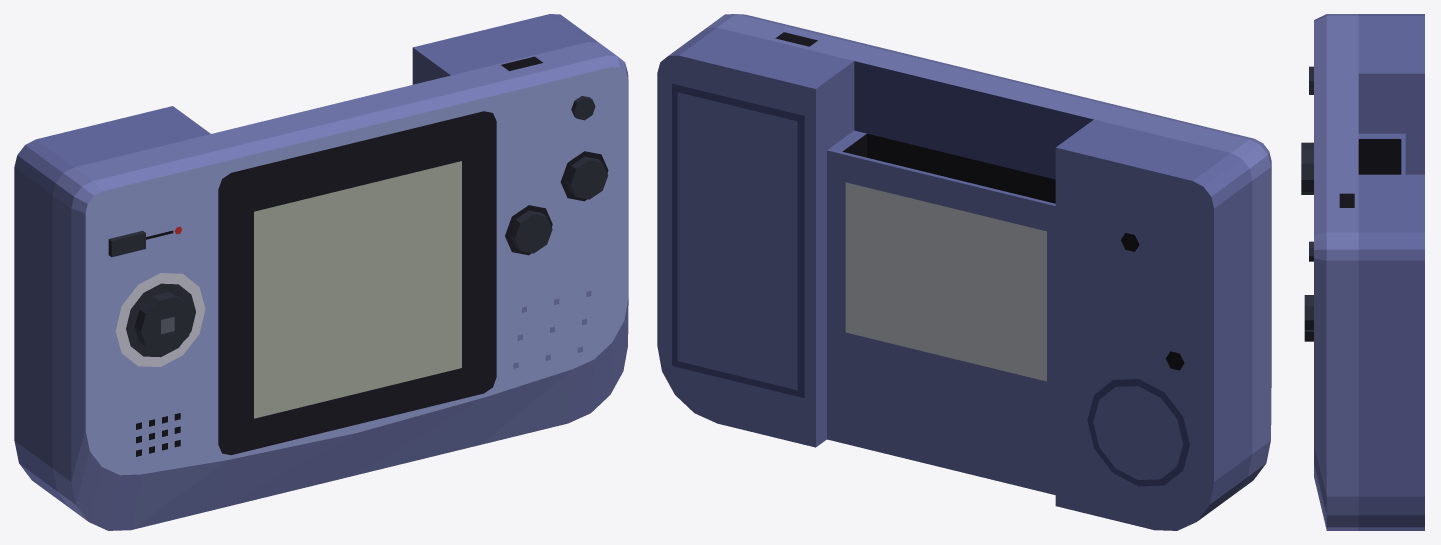
Rendered from ngpc.obj.
3 renders of one model, left to right at view 1: azimuth 30°, elevation 25°; view 2: azimuth 150°, elevation 25°; view 3: azimuth 270°, elevation 25°, orthographic. The views are drawn at different scales.
Visible parts, largest first — view 1: ngpc; view 2: ngpc; view 3: ngpc.
Boxes of the visible parts, x1,y1,x2,y2 form: ngpc: [14, 14, 628, 530]; ngpc: [657, 14, 1271, 530]; ngpc: [1301, 14, 1424, 530].
Size of the model in its own units: 13 by 8.02 by 2.96.
